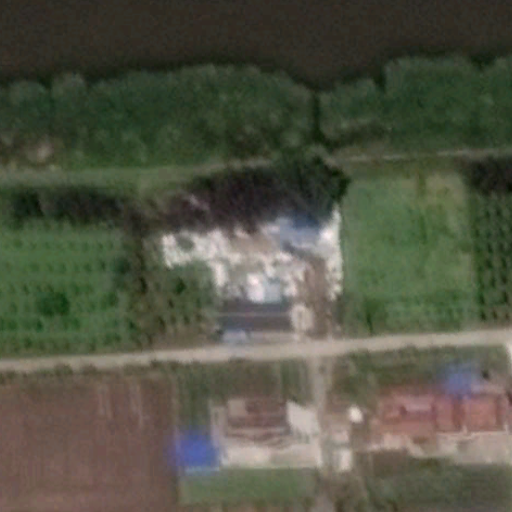msw: (161, 210, 345, 297)
